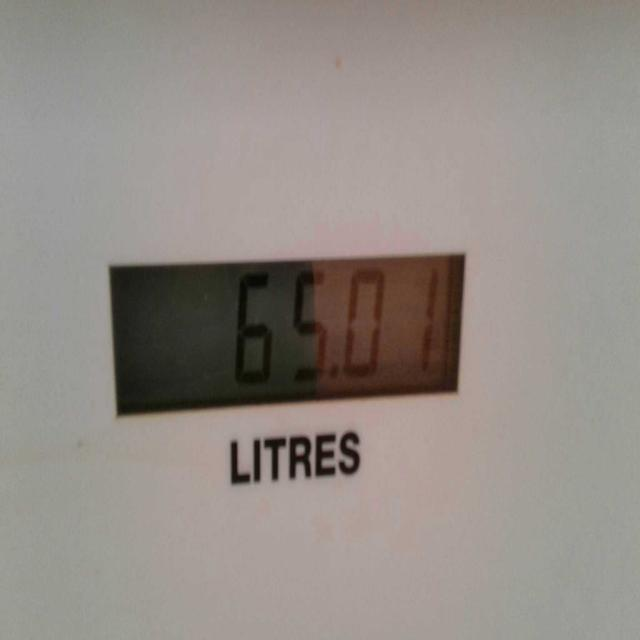.: (323, 361, 348, 398)
0: (344, 264, 398, 381)
1: (405, 256, 450, 384)
5: (288, 264, 332, 386)
6: (226, 275, 279, 387)
